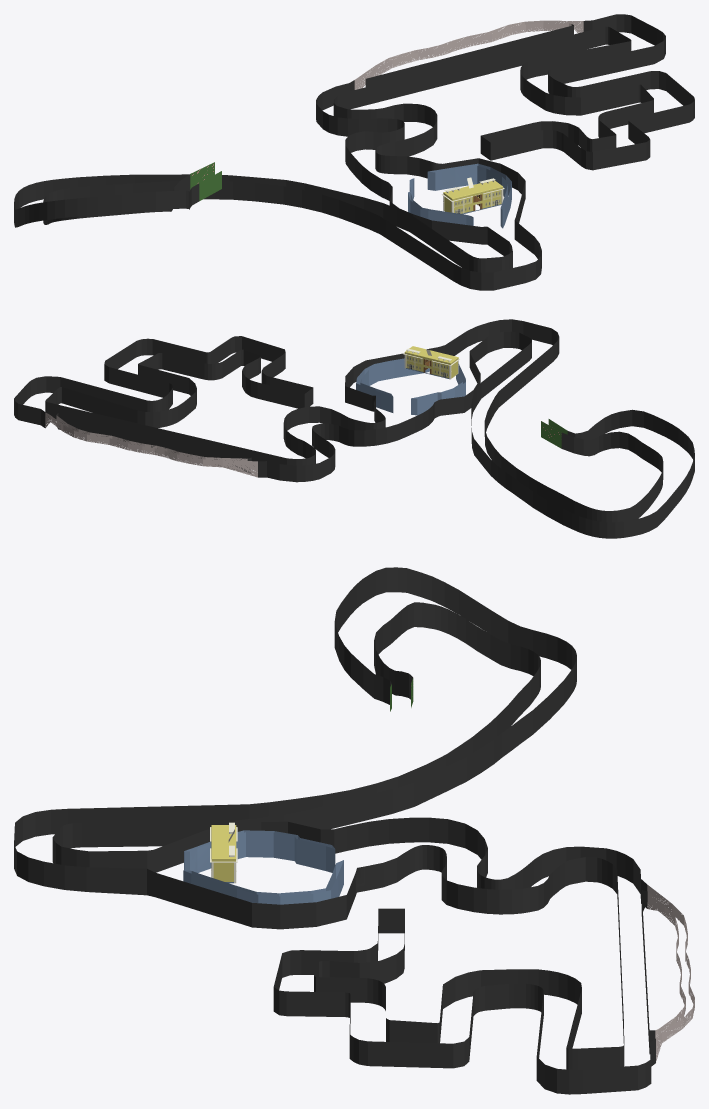
Rendered from Trottoir_barrieres_OrlogeMairie.fbx.
The picture shows the model from 3 angles, top to bottom: view 1: azimuth 30°, elevation 25°; view 2: azimuth 150°, elevation 25°; view 3: azimuth 270°, elevation 25°; orthographic projection. The views are drawn at different scales.
Visible parts, largest first — view 1: Trottoirs.006, M.Mairie.LP.001, M.Mairie.LP.005; view 2: Trottoirs.006, M.Mairie.LP.001, M.Mairie.LP.005; view 3: Trottoirs.006, M.Mairie.LP.001.
Boxes of the visible parts, x1,y1,x2,y2 form: Trottoirs.006: [14, 14, 694, 290]; M.Mairie.LP.001: [442, 178, 504, 214]; M.Mairie.LP.005: [443, 180, 502, 199]; Trottoirs.006: [14, 319, 694, 538]; M.Mairie.LP.001: [403, 348, 459, 379]; M.Mairie.LP.005: [405, 346, 458, 363]; Trottoirs.006: [14, 567, 694, 1094]; M.Mairie.LP.001: [210, 822, 237, 883].
Size of the model in its own units: 45996 by 4409 by 29311.
